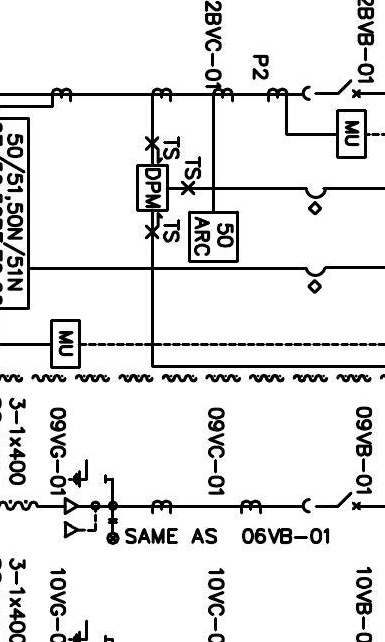22_gs: (68, 458, 108, 489)
22_ll: (106, 517, 121, 545)
DPM: (135, 164, 170, 212)
MU: (335, 109, 368, 159), (49, 319, 82, 369)
terminator_w_future: (63, 496, 98, 540)
